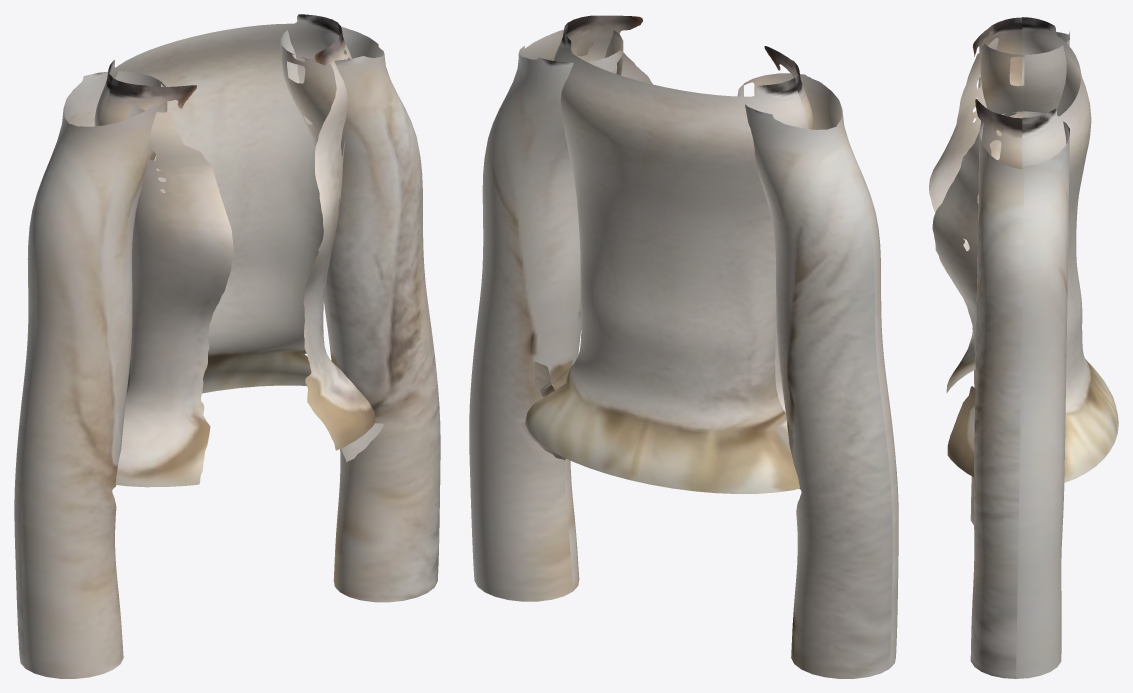
Rendered from prod-ae-cream-cropped-fur-jacket.glb.
The picture shows the model from 3 angles, left to right: view 1: azimuth 30°, elevation 25°; view 2: azimuth 150°, elevation 25°; view 3: azimuth 270°, elevation 25°; orthographic projection. The views are drawn at different scales.
Visible parts, largest first — view 1: prod-ae-cream-cropped-fur-jacket; view 2: prod-ae-cream-cropped-fur-jacket; view 3: prod-ae-cream-cropped-fur-jacket.
Part boxes in pixels (box(x1,y1,x2,y2)): prod-ae-cream-cropped-fur-jacket: box(14, 14, 440, 678); prod-ae-cream-cropped-fur-jacket: box(469, 15, 898, 678); prod-ae-cream-cropped-fur-jacket: box(929, 17, 1118, 678).
Size of the model in its own units: 0.4289 by 0.5612 by 0.1873.
1 material, 1 textured.
